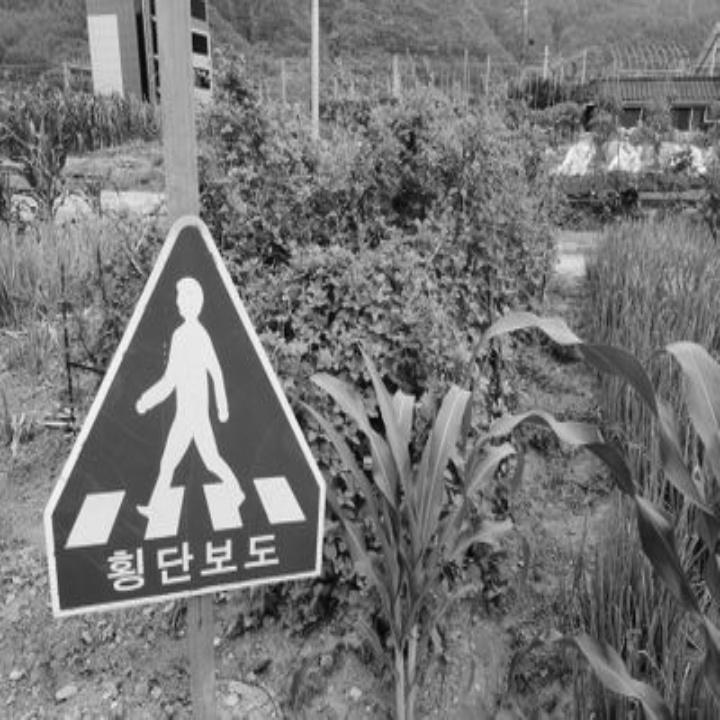cross: (16, 261, 333, 535)
